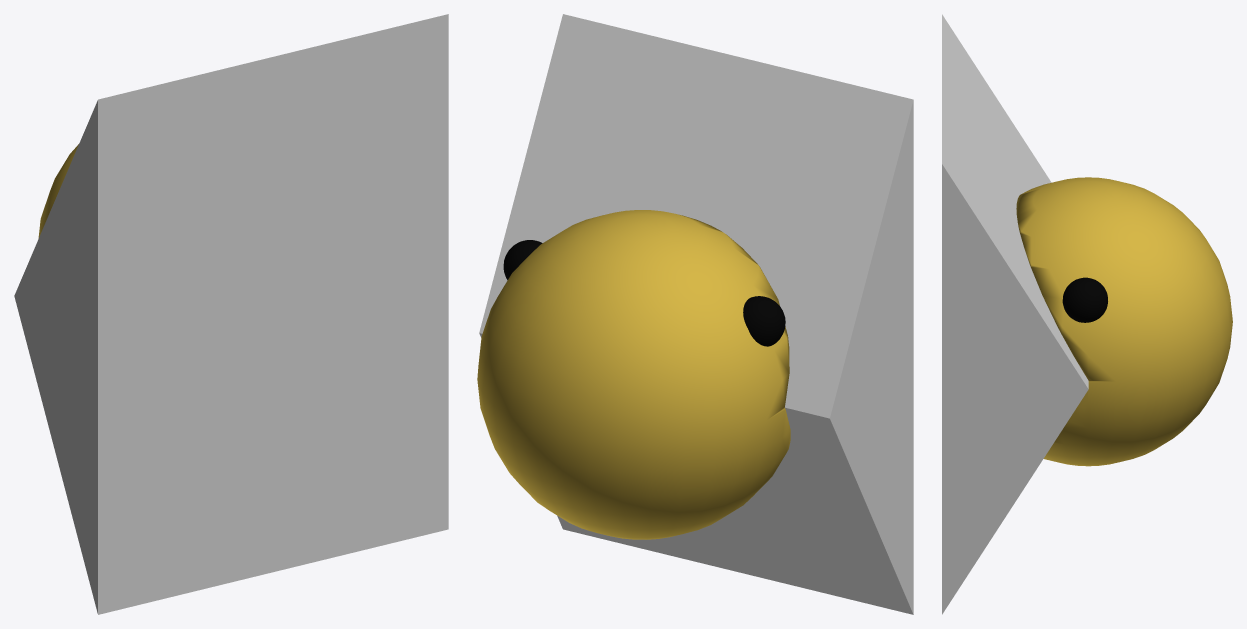
File: PacMan.fbx
3 views of the same model, side by side, from view 1: azimuth 30°, elevation 25°; view 2: azimuth 150°, elevation 25°; view 3: azimuth 270°, elevation 25° (orthographic). The views are drawn at different scales.
Parts seen in each view (by area): view 1: Cube.001, Sphere.005; view 2: Cube.001, Sphere.005; view 3: Cube.001, Sphere.005.
Boxes of the visible parts, bbox=[...] form: Cube.001: bbox=[14, 14, 448, 614]; Sphere.005: bbox=[38, 144, 78, 238]; Cube.001: bbox=[479, 14, 913, 614]; Sphere.005: bbox=[477, 210, 790, 539]; Cube.001: bbox=[942, 14, 1088, 614]; Sphere.005: bbox=[1016, 177, 1232, 466].
Size of what is drawn, in the model's own units: 245 by 344 by 201.
